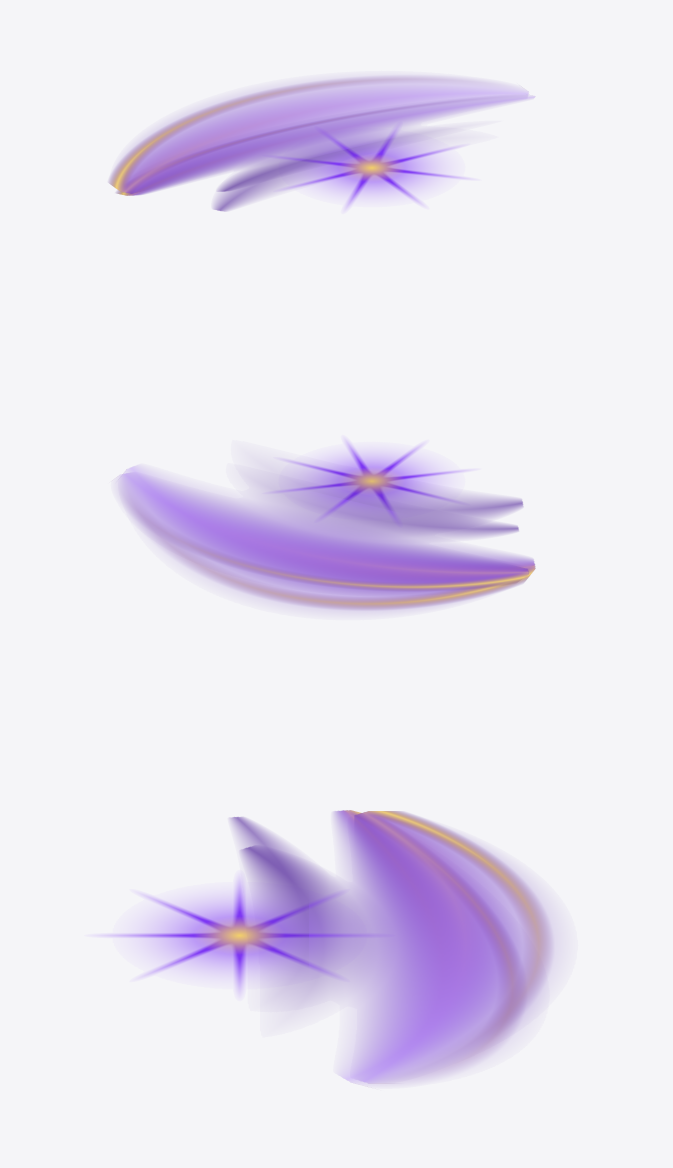
File: fx_slash_asc.glb
The picture shows the model from 3 angles, top to bottom: view 1: azimuth 30°, elevation 25°; view 2: azimuth 150°, elevation 25°; view 3: azimuth 270°, elevation 25°; orthographic projection. The views are drawn at different scales.
Visible parts, largest first — view 1: fx_slash, fx_eclipse; view 2: fx_slash, fx_eclipse; view 3: fx_slash, fx_eclipse.
Boxes of the visible parts, x1=… form: fx_slash: x1=108, y1=76, x2=534, y2=211; fx_eclipse: x1=277, y1=127, x2=467, y2=208; fx_slash: x1=116, y1=466, x2=535, y2=610; fx_eclipse: x1=277, y1=440, x2=467, y2=521; fx_slash: x1=230, y1=810, x2=554, y2=1086; fx_eclipse: x1=103, y1=878, x2=375, y2=993.
Bounding box in the file's own units: 1 × 0.27 × 1.
2 materials, 2 textured.
